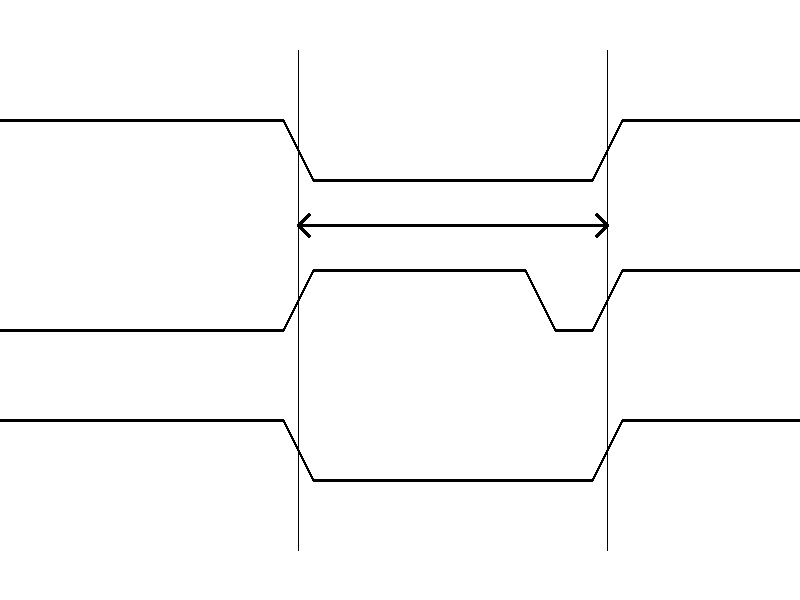double_arrow: (298, 210, 607, 240)
